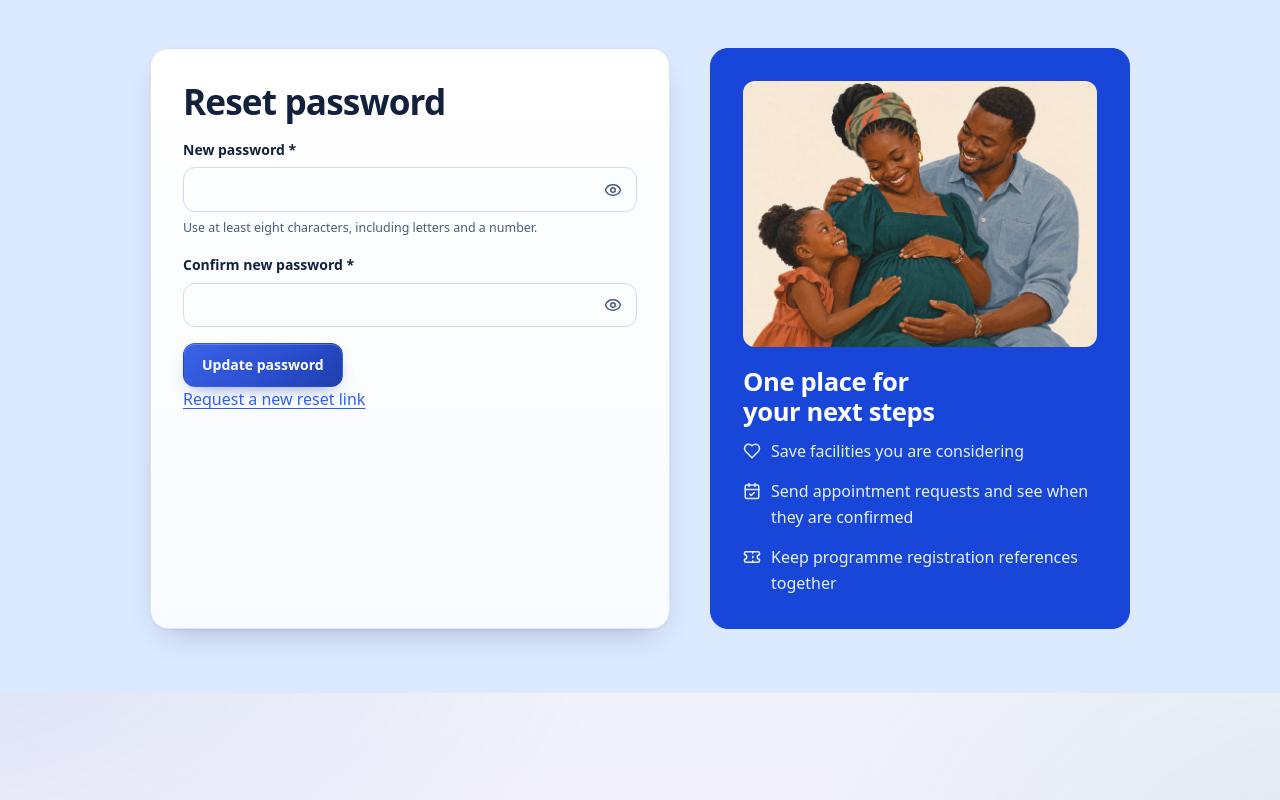
password recovery › rejects mismatched passwords and posts the link token and confirmed new password once
Type "OnePass99" into the password field labelled "New password *". click: {"x": 410, "y": 190}
box: x1=183 y1=167 x2=637 y2=212
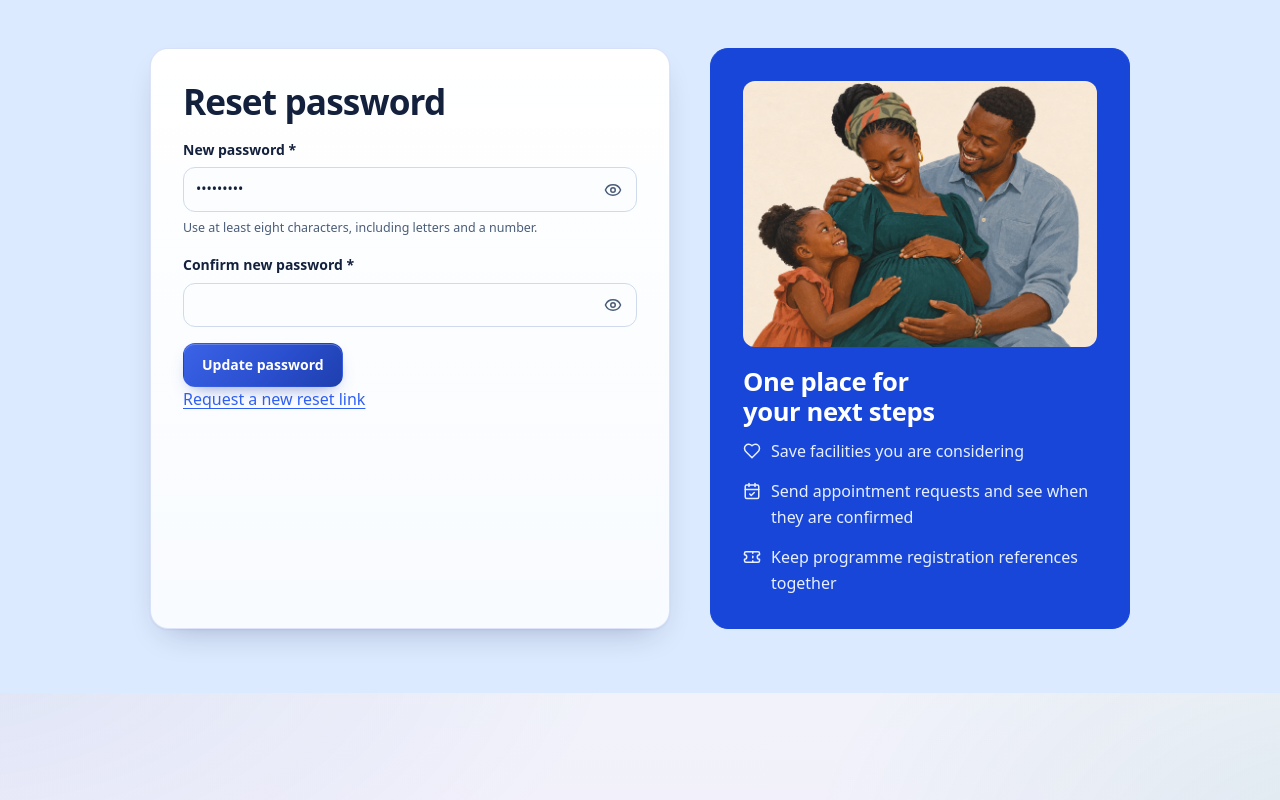
Type "OtherPass99" into the password field labelled "Confirm new password *". click: {"x": 410, "y": 305}
box: x1=183 y1=283 x2=637 y2=328
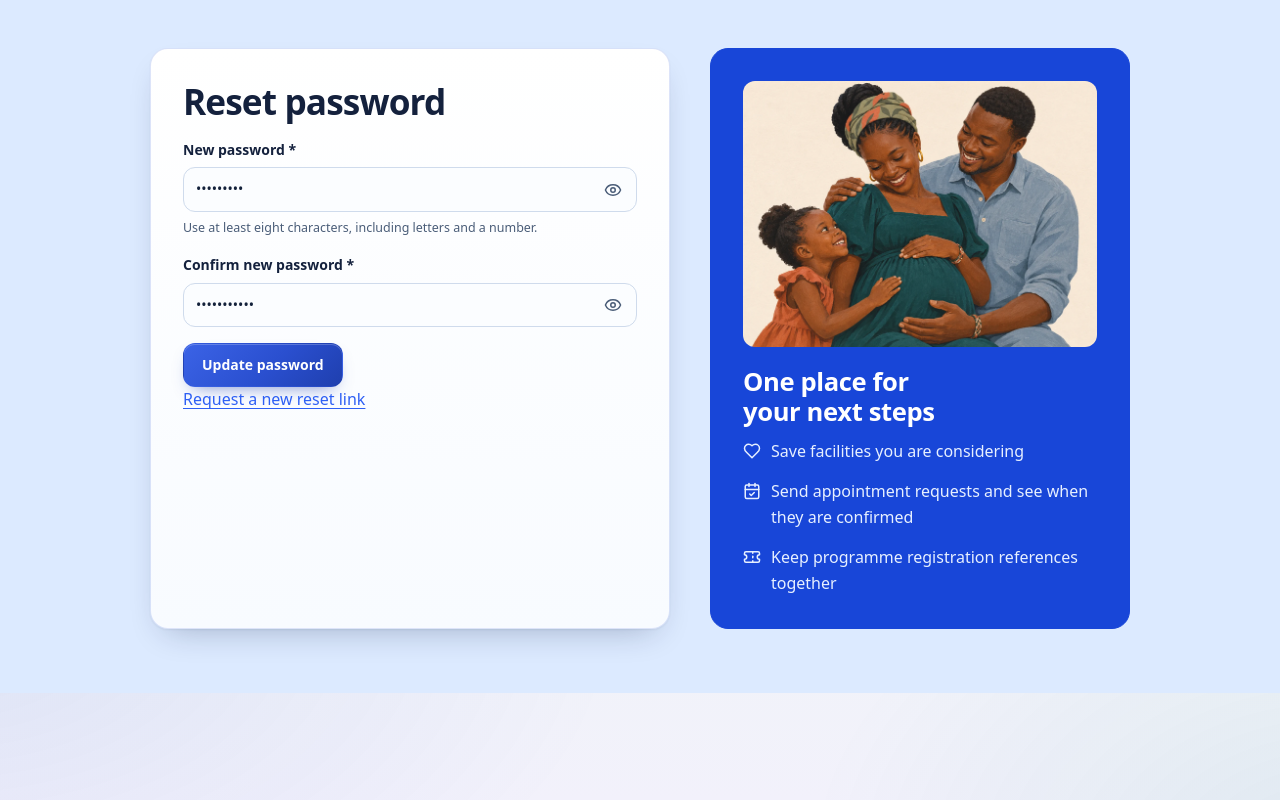
Click the button "Update password". click: {"x": 263, "y": 365}
box: x1=183 y1=343 x2=343 y2=387
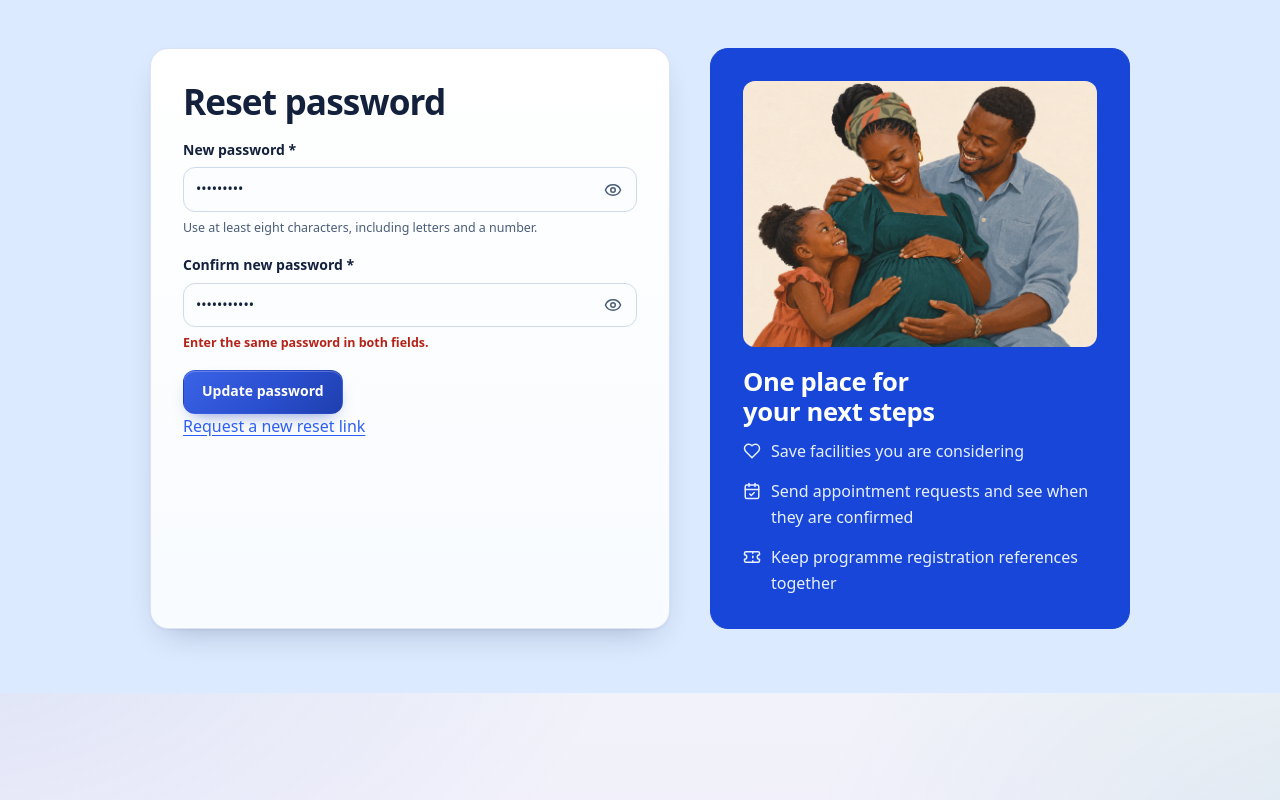
expect the text "Enter the same password in both fields." is shown: met, box x1=183 y1=334 x2=429 y2=351
Type "OnePass99" into the password field labelled "Confirm new password *". click: {"x": 410, "y": 305}
box: x1=183 y1=283 x2=637 y2=328
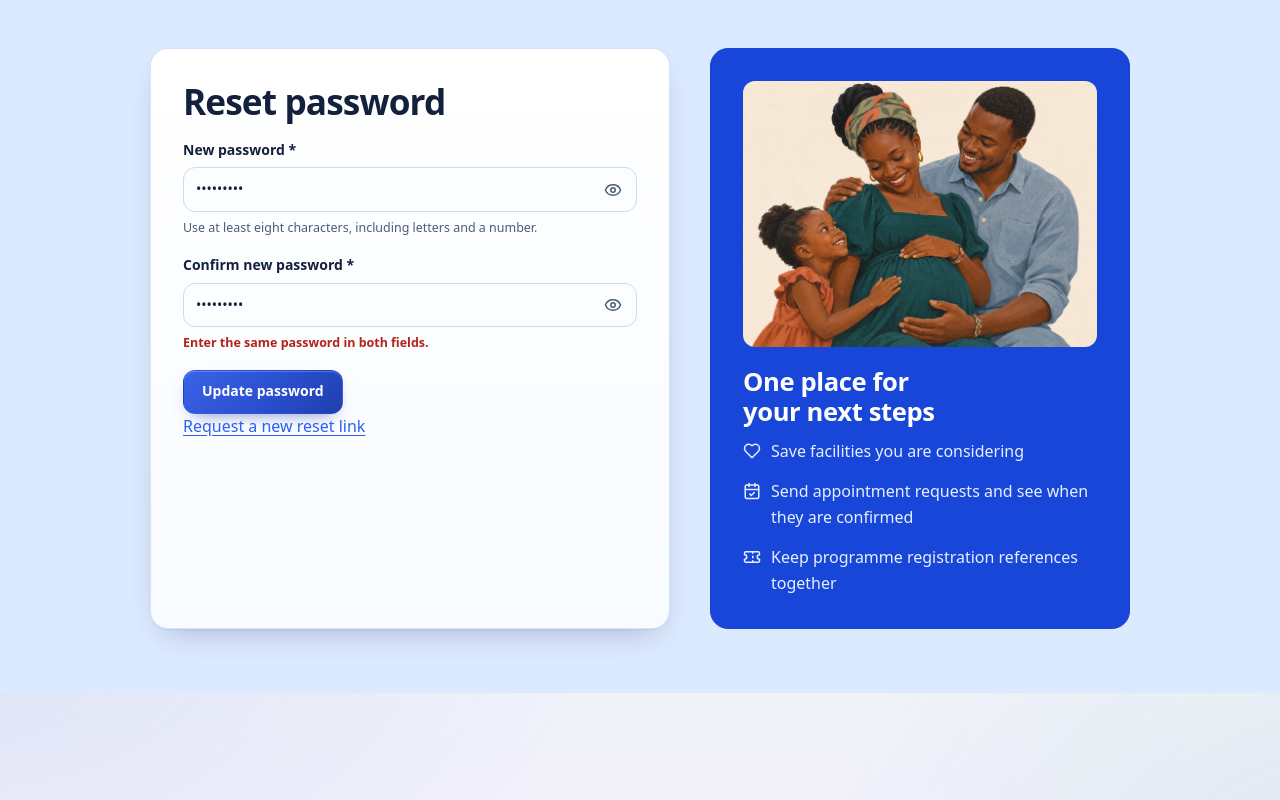
Click the button "Update password". click: {"x": 263, "y": 392}
box: x1=183 y1=370 x2=343 y2=414
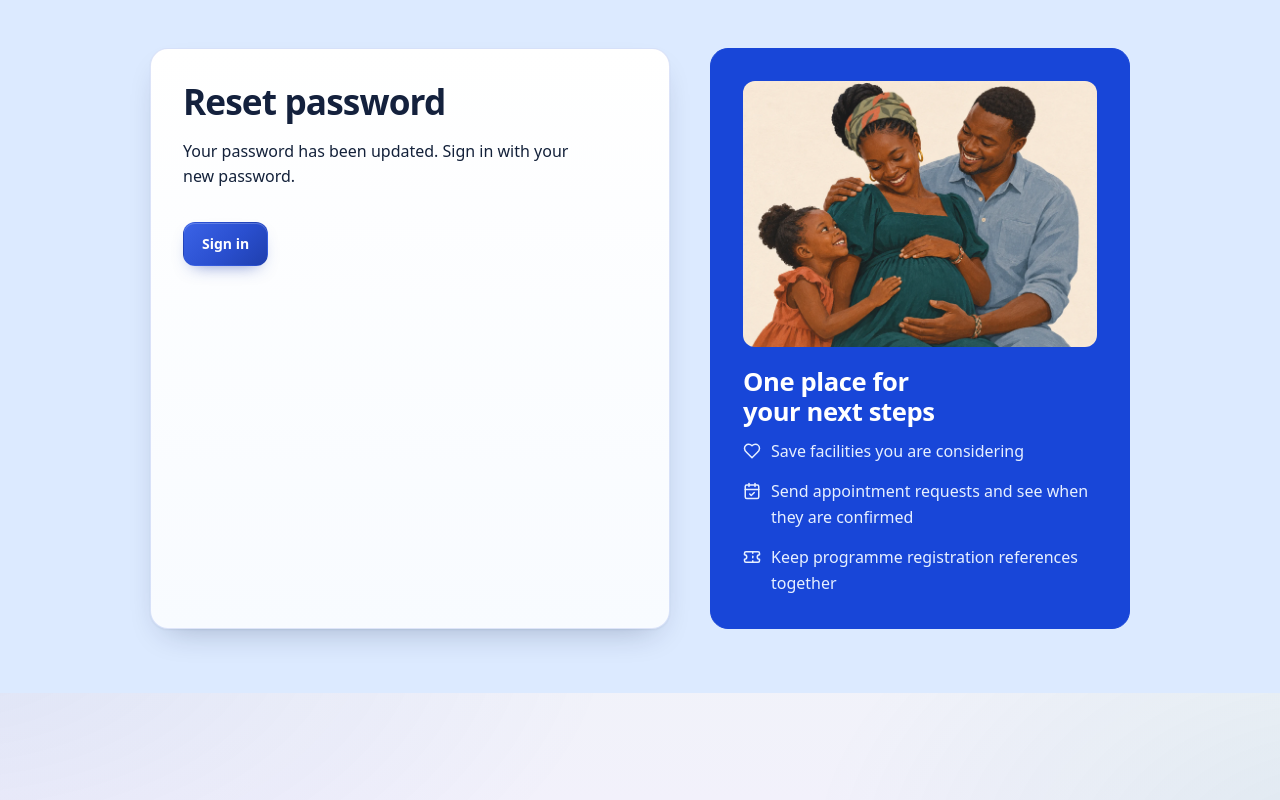
expect the text "Your password has been updated. Sign in with your new password." is shown: met, box x1=183 y1=140 x2=568 y2=187
